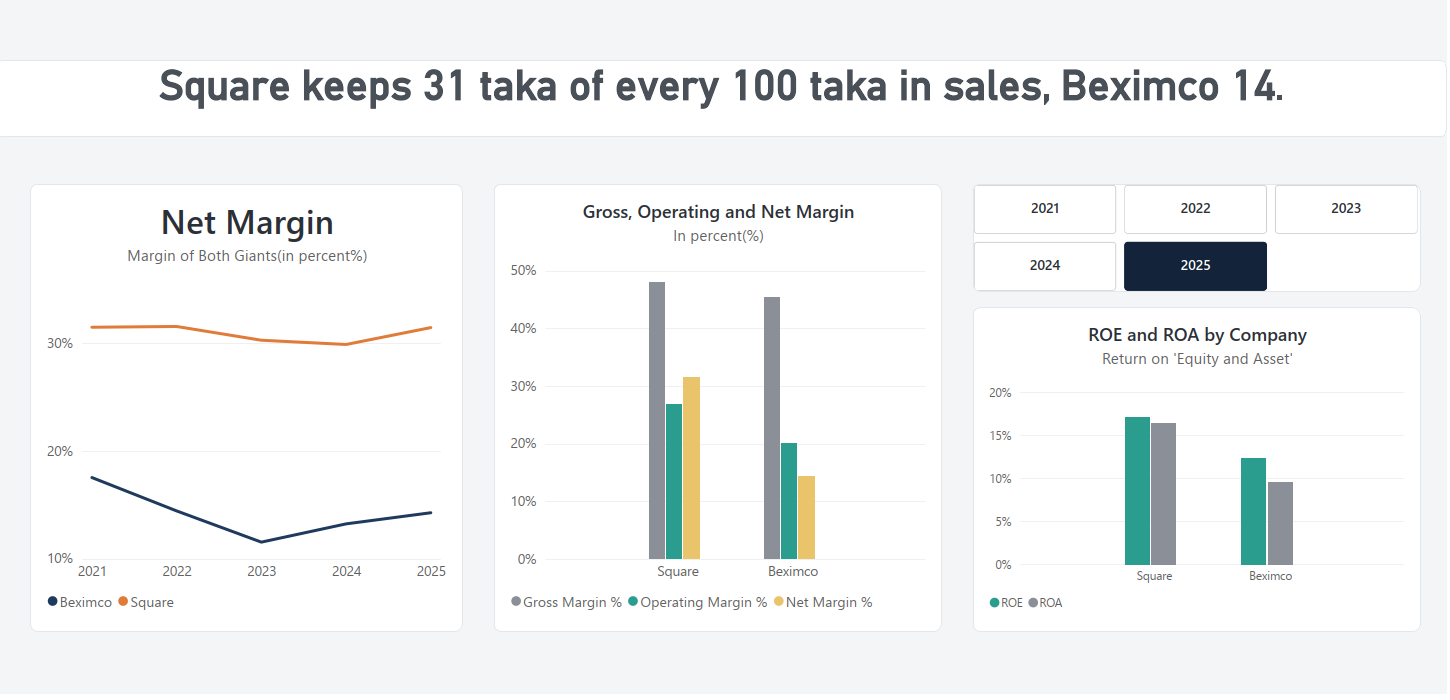

Layout of this report page (visuals, bound fields, positions):
{"tool":"powerbi","page":{"name":"Profitability","canvas":[1500,720],"ordinal":1},"visuals":[{"type":"clusteredColumnChart","title":"Gross, Operating and Net Margin","fields":{"Category":["Data.Company"],"Y":["Measure.Gross Margin %","Measure.Operating Margin %","Measure.Net Margin %"]},"box":[512,192,464,464],"z":0},{"type":"lineChart","title":"Net Margin ","fields":{"Category":["Data.Year"],"Series":["Data.Company"],"Y":["Measure.Net Margin %"]},"box":[32,192,448,464],"z":1000},{"type":"clusteredColumnChart","fields":{"Category":["Data.Company"],"Y":["Measure.ROE","Measure.ROA"]},"box":[1008,320,464,336],"z":2000},{"type":"advancedSlicerVisual","fields":{"Values":["Data.Year"]},"box":[1008,192,464,112],"z":3000},{"type":"textbox","box":[-4,64,1504,80],"z":4000}]}

Visuals, with their boxes in screenshot pixels (x1, y1, x2, y2), scaled from the page's 1500x720 canvas onto the 1450x700 screenshot:
"Gross, Operating and Net Margin" clusteredColumnChart: [x1=495, y1=187, x2=943, y2=638]
"Net Margin " lineChart: [x1=31, y1=187, x2=464, y2=638]
clusteredColumnChart - Data.Company x Measure.ROE: [x1=974, y1=311, x2=1423, y2=638]
advancedSlicerVisual - Data.Year: [x1=974, y1=187, x2=1423, y2=296]
textbox: [x1=0, y1=62, x2=1449, y2=140]
